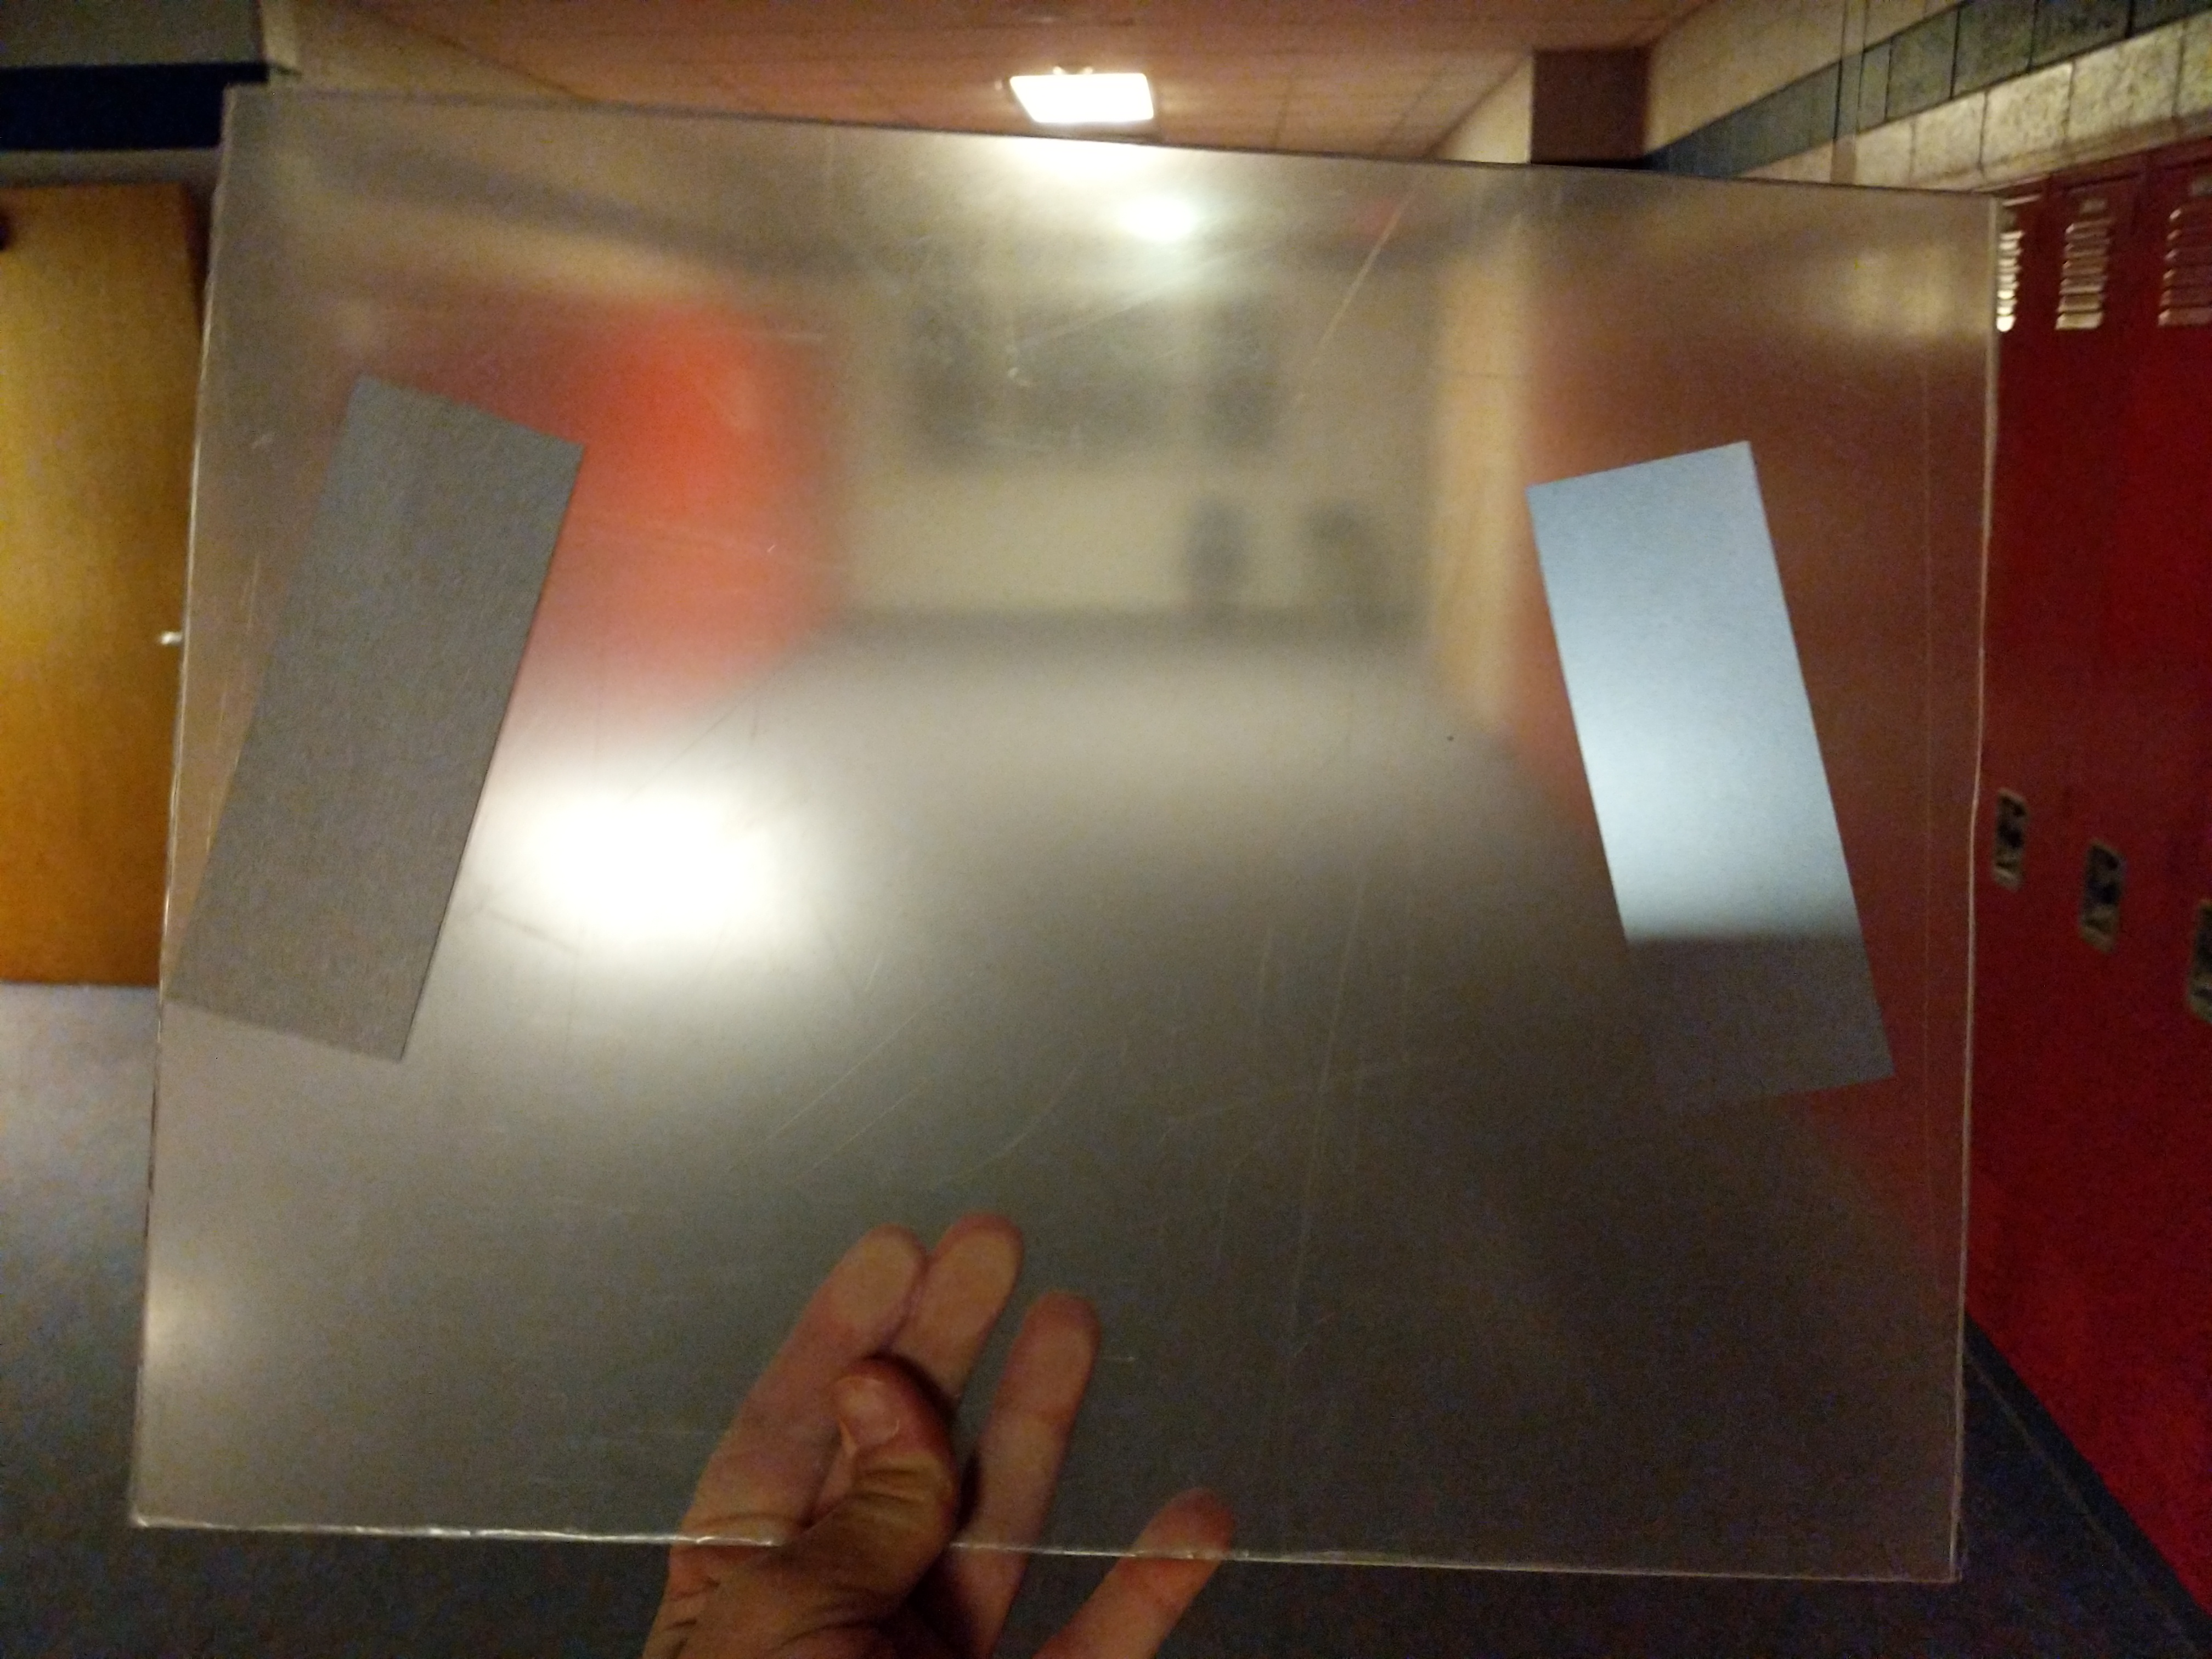vision_target: (145, 362, 1916, 1122)
